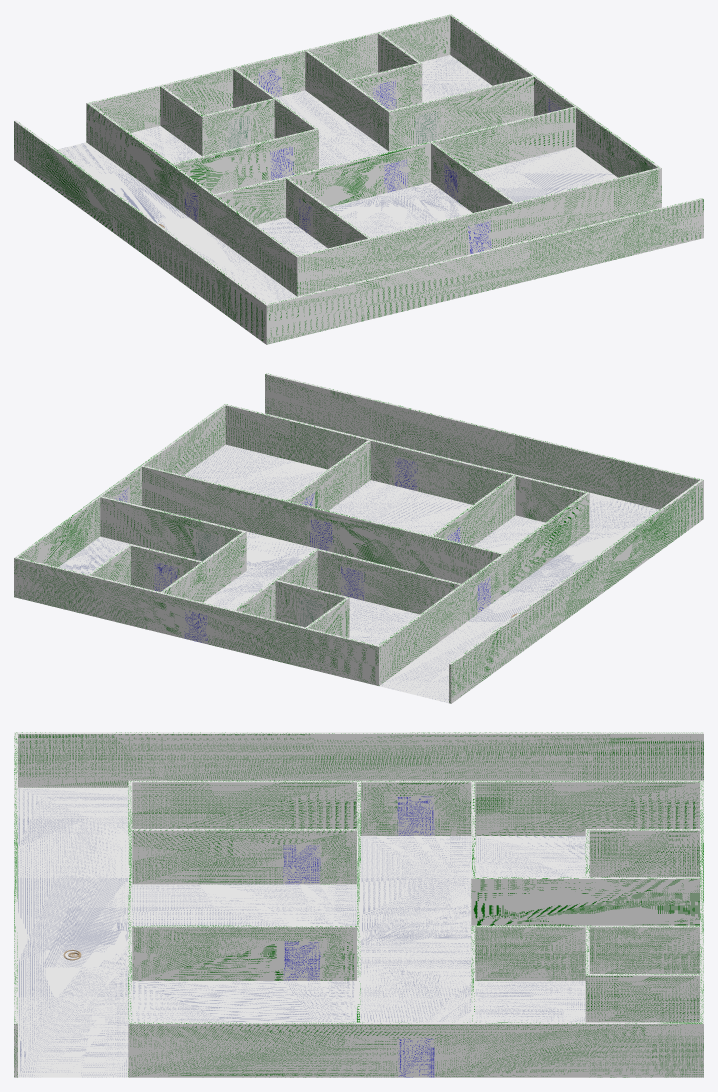
3 views of the same model, one above another, from view 1: azimuth 30°, elevation 25°; view 2: azimuth 150°, elevation 25°; view 3: azimuth 270°, elevation 25° (orthographic). The views are drawn at different scales.
Parts seen in each view (by area): view 1: SketchUp (×24); view 2: SketchUp (×24); view 3: SketchUp (×20).
Part boxes in pixels (x1,y1,x2,y2): SketchUp (×24): (14,14,703,344); SketchUp (×24): (14,373,703,703); SketchUp (×20): (14,732,703,1077).
Bounding box in the file's own units: 1050 × 1050 × 90.
